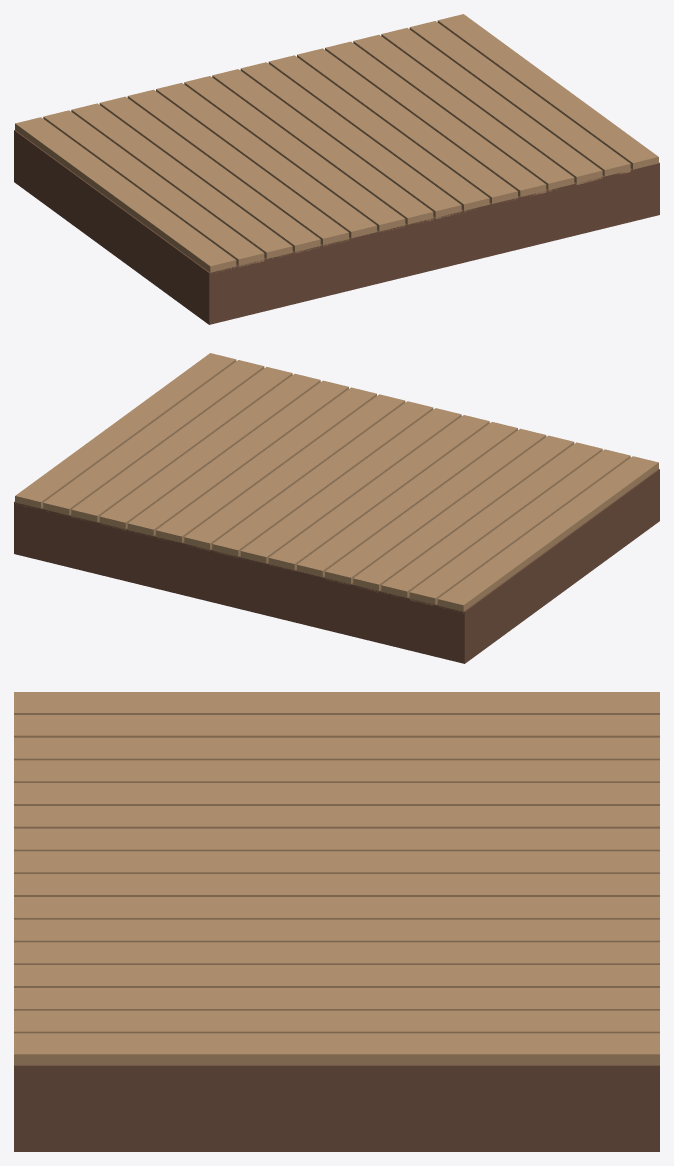
Rendered from tavern_stage.glb.
The picture shows the model from 3 angles, top to bottom: view 1: azimuth 30°, elevation 25°; view 2: azimuth 150°, elevation 25°; view 3: azimuth 270°, elevation 25°; orthographic projection. The views are drawn at different scales.
Parts seen in each view (by area): view 1: tavern_stage_Mesh; view 2: tavern_stage_Mesh; view 3: tavern_stage_Mesh.
Part boxes in pixels (left/top/right/bottom): tavern_stage_Mesh: left=14, top=14, right=659, bottom=324; tavern_stage_Mesh: left=14, top=353, right=659, bottom=663; tavern_stage_Mesh: left=14, top=692, right=659, bottom=1151.
Bounding box in the file's own units: 4 × 0.495 × 3.
